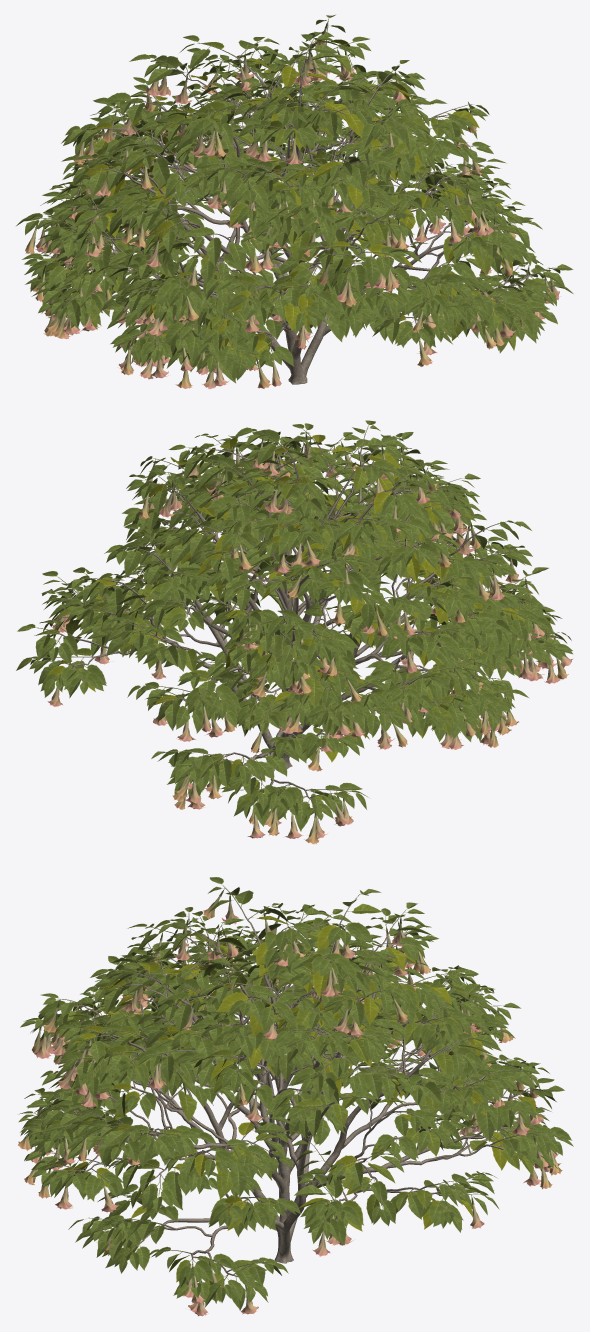
Rendered from magnificent_angel_trumpet.glb.
The picture shows the model from 3 angles, top to bottom: view 1: azimuth 30°, elevation 25°; view 2: azimuth 150°, elevation 25°; view 3: azimuth 270°, elevation 25°; orthographic projection. The views are drawn at different scales.
Parts seen in each view (by area): view 1: Brugmansia_x_insignis_HD; view 2: Brugmansia_x_insignis_HD; view 3: Brugmansia_x_insignis_HD.
Boxes of the visible parts, x1,y1,x2,y2 form: Brugmansia_x_insignis_HD: [16, 14, 573, 389]; Brugmansia_x_insignis_HD: [16, 420, 573, 844]; Brugmansia_x_insignis_HD: [18, 877, 573, 1316].
Bounding box in the file's own units: 2.54 × 1.72 × 2.52.
Materials: 9 (9 with a texture image).
